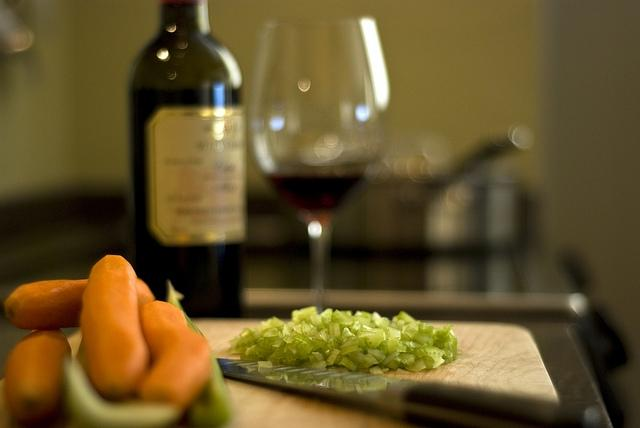carrot: (80, 254, 150, 400), (138, 300, 212, 408), (4, 278, 156, 330), (5, 328, 70, 422)
celery: (408, 345, 446, 369), (348, 351, 379, 368), (291, 306, 318, 323), (339, 339, 362, 356), (236, 333, 256, 351), (289, 329, 313, 344), (331, 309, 353, 325), (404, 357, 426, 372), (396, 310, 416, 326), (340, 357, 358, 372), (326, 348, 341, 366), (349, 316, 371, 328), (384, 356, 402, 370), (254, 346, 274, 358), (349, 318, 362, 336), (398, 352, 414, 366), (439, 347, 453, 362), (312, 338, 328, 351), (416, 335, 434, 346), (286, 342, 298, 358), (387, 338, 399, 354), (270, 316, 286, 328), (328, 322, 340, 338), (314, 347, 331, 357), (404, 326, 418, 338), (364, 336, 376, 348), (378, 340, 388, 354), (228, 347, 248, 354), (402, 340, 416, 350), (388, 328, 400, 339), (240, 355, 262, 361), (300, 343, 313, 353), (282, 334, 296, 343), (371, 312, 382, 323), (261, 322, 273, 332), (422, 326, 434, 336), (322, 316, 332, 328), (418, 322, 426, 336), (444, 328, 454, 339), (285, 322, 296, 332), (269, 357, 286, 363), (294, 324, 303, 334), (334, 340, 342, 350), (266, 353, 276, 361), (327, 338, 335, 348), (320, 328, 330, 335), (316, 325, 327, 331), (438, 342, 445, 350), (354, 310, 363, 316), (274, 336, 280, 344)
